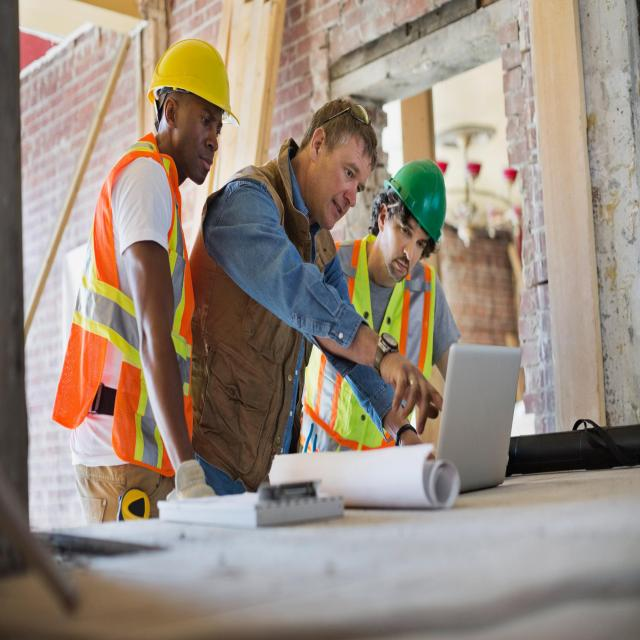Reflective-Jacket: (60, 141, 196, 472), (297, 239, 440, 453)
Safety-Helmet: (146, 32, 242, 123), (384, 151, 450, 249)
